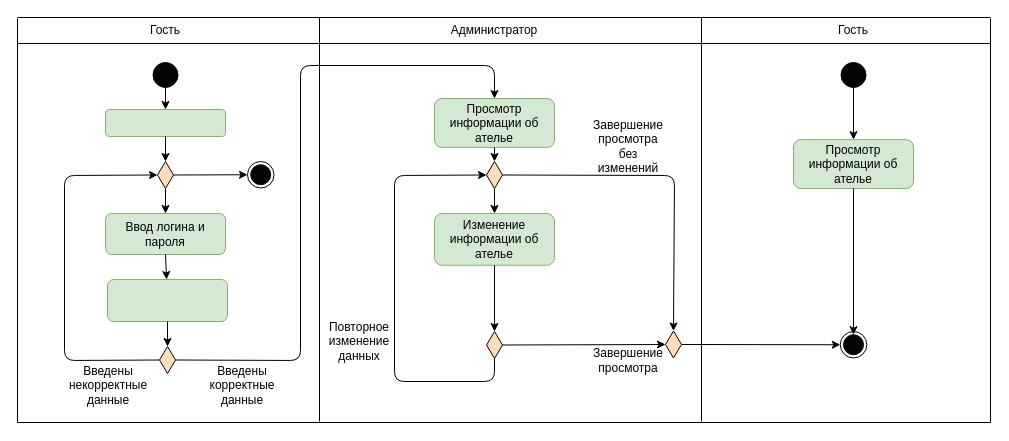
Some shapes in this 1009 by 441 pixel diagram are drawn without their labels. The shapes that lost their labels are listed below. From the top down, each one's box as (x1, y1, x2, y2) in pixels, then its label:
(104, 108, 226, 136): Авторизация
(106, 278, 228, 322): Проверка логина и пароля
